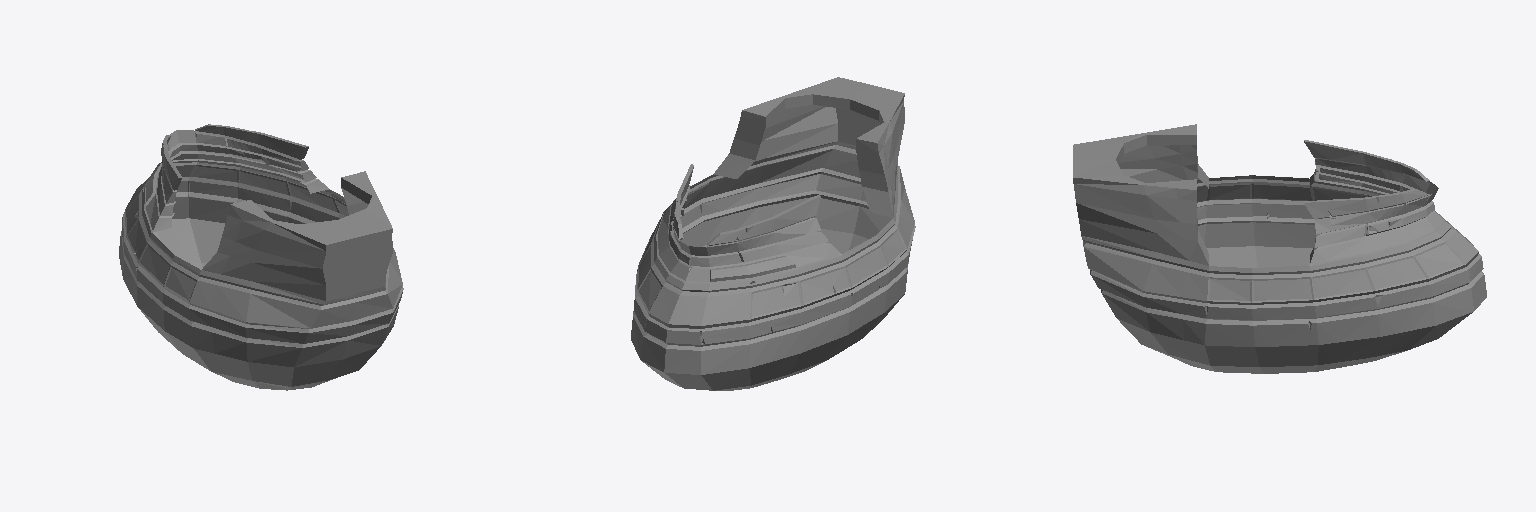
The model's file is HP_korpus.obj.
3 views of the same model, side by side, from view 1: azimuth 30°, elevation 25°; view 2: azimuth 150°, elevation 25°; view 3: azimuth 270°, elevation 25° (orthographic).
Visible parts, largest first — view 1: HP_??????; view 2: HP_??????; view 3: HP_??????.
Part boxes in pixels (x1,y1,x2,y2): HP_??????: (119,124,403,390); HP_??????: (631,77,915,390); HP_??????: (1073,124,1486,373).
Size of the model in its own units: 103 by 90.51 by 172.